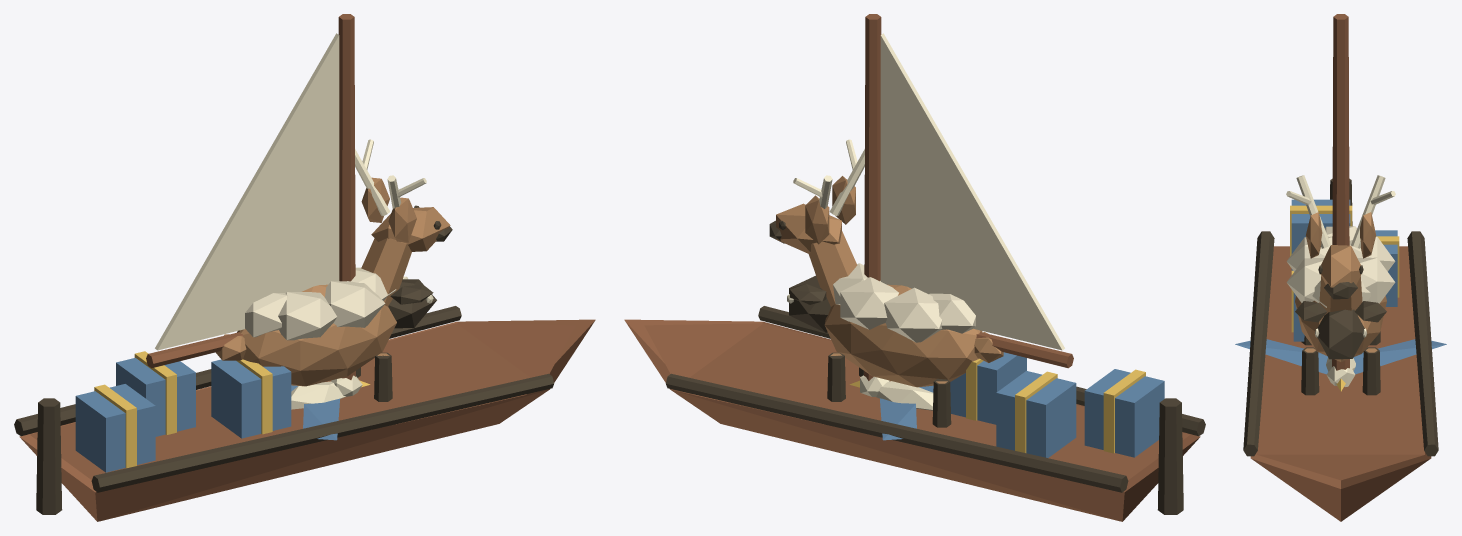
File: ENV_LivingWorld_LOD0.glb
The picture shows the model from 3 angles, left to right: view 1: azimuth 30°, elevation 25°; view 2: azimuth 150°, elevation 25°; view 3: azimuth 270°, elevation 25°; orthographic projection. The views are drawn at different scales.
Parts seen in each view (by area): view 1: LivingWorld_boat_sail_LOD0, LivingWorld_boat_deck_LOD0, LivingWorld_boat_hull_LOD0, LivingWorld_boat_gunwale_LOD0.001, LivingWorld_deer_body_LOD0, LivingWorld_boat_cargo_LOD0.002, LivingWorld_boat_cargo_LOD0.001, LivingWorld_boat_mast_LOD0, LivingWorld_boat_cargo_LOD0, LivingWorld_boat_rudder_LOD0, LivingWorld_sheep_fleece_LOD0.002, LivingWorld_sheep_fleece_LOD0.001 (+14 smaller); view 2: LivingWorld_boat_sail_LOD0, LivingWorld_boat_deck_LOD0, LivingWorld_boat_hull_LOD0, LivingWorld_boat_gunwale_LOD0, LivingWorld_deer_body_LOD0, LivingWorld_boat_cargo_LOD0, LivingWorld_boat_cargo_LOD0.002, LivingWorld_boat_mast_LOD0, LivingWorld_boat_rudder_LOD0, LivingWorld_boat_cargo_LOD0.001, LivingWorld_sheep_fleece_LOD0.004, LivingWorld_sheep_fleece_LOD0.005 (+15 smaller); view 3: LivingWorld_boat_deck_LOD0, LivingWorld_boat_hull_LOD0, LivingWorld_boat_mast_LOD0, LivingWorld_boat_gunwale_LOD0, LivingWorld_boat_gunwale_LOD0.001, LivingWorld_sheep_face_LOD0, LivingWorld_deer_face_LOD0, LivingWorld_deer_body_LOD0, LivingWorld_sheep_fleece_LOD0.005, LivingWorld_sheep_fleece_LOD0.001, LivingWorld_boat_cargo_LOD0.002, LivingWorld_bird_wing_LOD0.001 (+19 smaller).
Part boxes in pixels (box(x1,y1,x2,y2)): LivingWorld_boat_sail_LOD0: box(155, 33, 339, 350); LivingWorld_boat_deck_LOD0: box(30, 323, 575, 479); LivingWorld_boat_hull_LOD0: box(19, 319, 595, 521); LivingWorld_boat_gunwale_LOD0.001: box(91, 373, 554, 492); LivingWorld_deer_body_LOD0: box(237, 284, 396, 386); LivingWorld_boat_cargo_LOD0.002: box(75, 384, 155, 472); LivingWorld_boat_cargo_LOD0.001: box(211, 359, 291, 438); LivingWorld_boat_mast_LOD0: box(338, 14, 355, 379); LivingWorld_boat_cargo_LOD0: box(116, 358, 195, 436); LivingWorld_boat_rudder_LOD0: box(36, 398, 62, 514); LivingWorld_sheep_fleece_LOD0.002: box(278, 292, 336, 340); LivingWorld_sheep_fleece_LOD0.001: box(325, 281, 385, 327); LivingWorld_boat_sail_LOD0: box(880, 33, 1064, 350); LivingWorld_boat_deck_LOD0: box(644, 323, 1189, 479); LivingWorld_boat_hull_LOD0: box(624, 319, 1200, 521); LivingWorld_boat_gunwale_LOD0: box(665, 373, 1128, 492); LivingWorld_deer_body_LOD0: box(824, 284, 982, 387); LivingWorld_boat_cargo_LOD0: box(996, 371, 1076, 457); LivingWorld_boat_cargo_LOD0.002: box(1084, 369, 1164, 457); LivingWorld_boat_mast_LOD0: box(864, 14, 881, 380); LivingWorld_boat_rudder_LOD0: box(1157, 398, 1183, 514); LivingWorld_boat_cargo_LOD0.001: box(950, 352, 1026, 424); LivingWorld_sheep_fleece_LOD0.004: box(884, 287, 942, 342); LivingWorld_sheep_fleece_LOD0.005: box(840, 277, 898, 329); LivingWorld_boat_deck_LOD0: box(1257, 248, 1424, 480); LivingWorld_boat_hull_LOD0: box(1250, 246, 1431, 521); LivingWorld_boat_mast_LOD0: box(1332, 14, 1349, 370); LivingWorld_boat_gunwale_LOD0: box(1407, 231, 1438, 456); LivingWorld_boat_gunwale_LOD0.001: box(1243, 231, 1274, 456); LivingWorld_sheep_face_LOD0: box(1317, 309, 1364, 359); LivingWorld_deer_face_LOD0: box(1320, 245, 1361, 287); LivingWorld_deer_body_LOD0: box(1295, 296, 1386, 361); LivingWorld_sheep_fleece_LOD0.005: box(1357, 257, 1395, 303); LivingWorld_sheep_fleece_LOD0.001: box(1286, 258, 1324, 302); LivingWorld_boat_cargo_LOD0.002: box(1291, 199, 1350, 270); LivingWorld_bird_wing_LOD0.001: box(1235, 339, 1328, 374).
Bounding box in the file's own units: 6.92 × 5.28 × 2.36.
